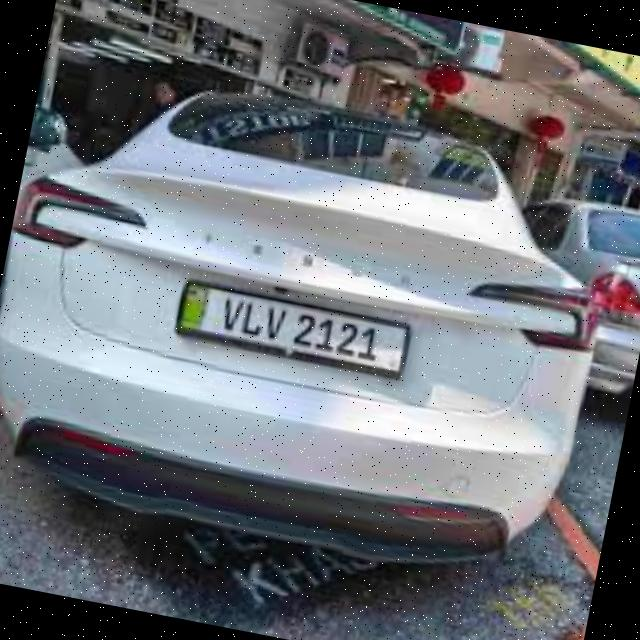License_Plate: (172, 276, 415, 382)
car: (1, 47, 635, 618)
